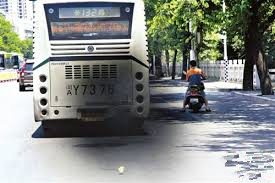smoke: (80, 93, 172, 164)
